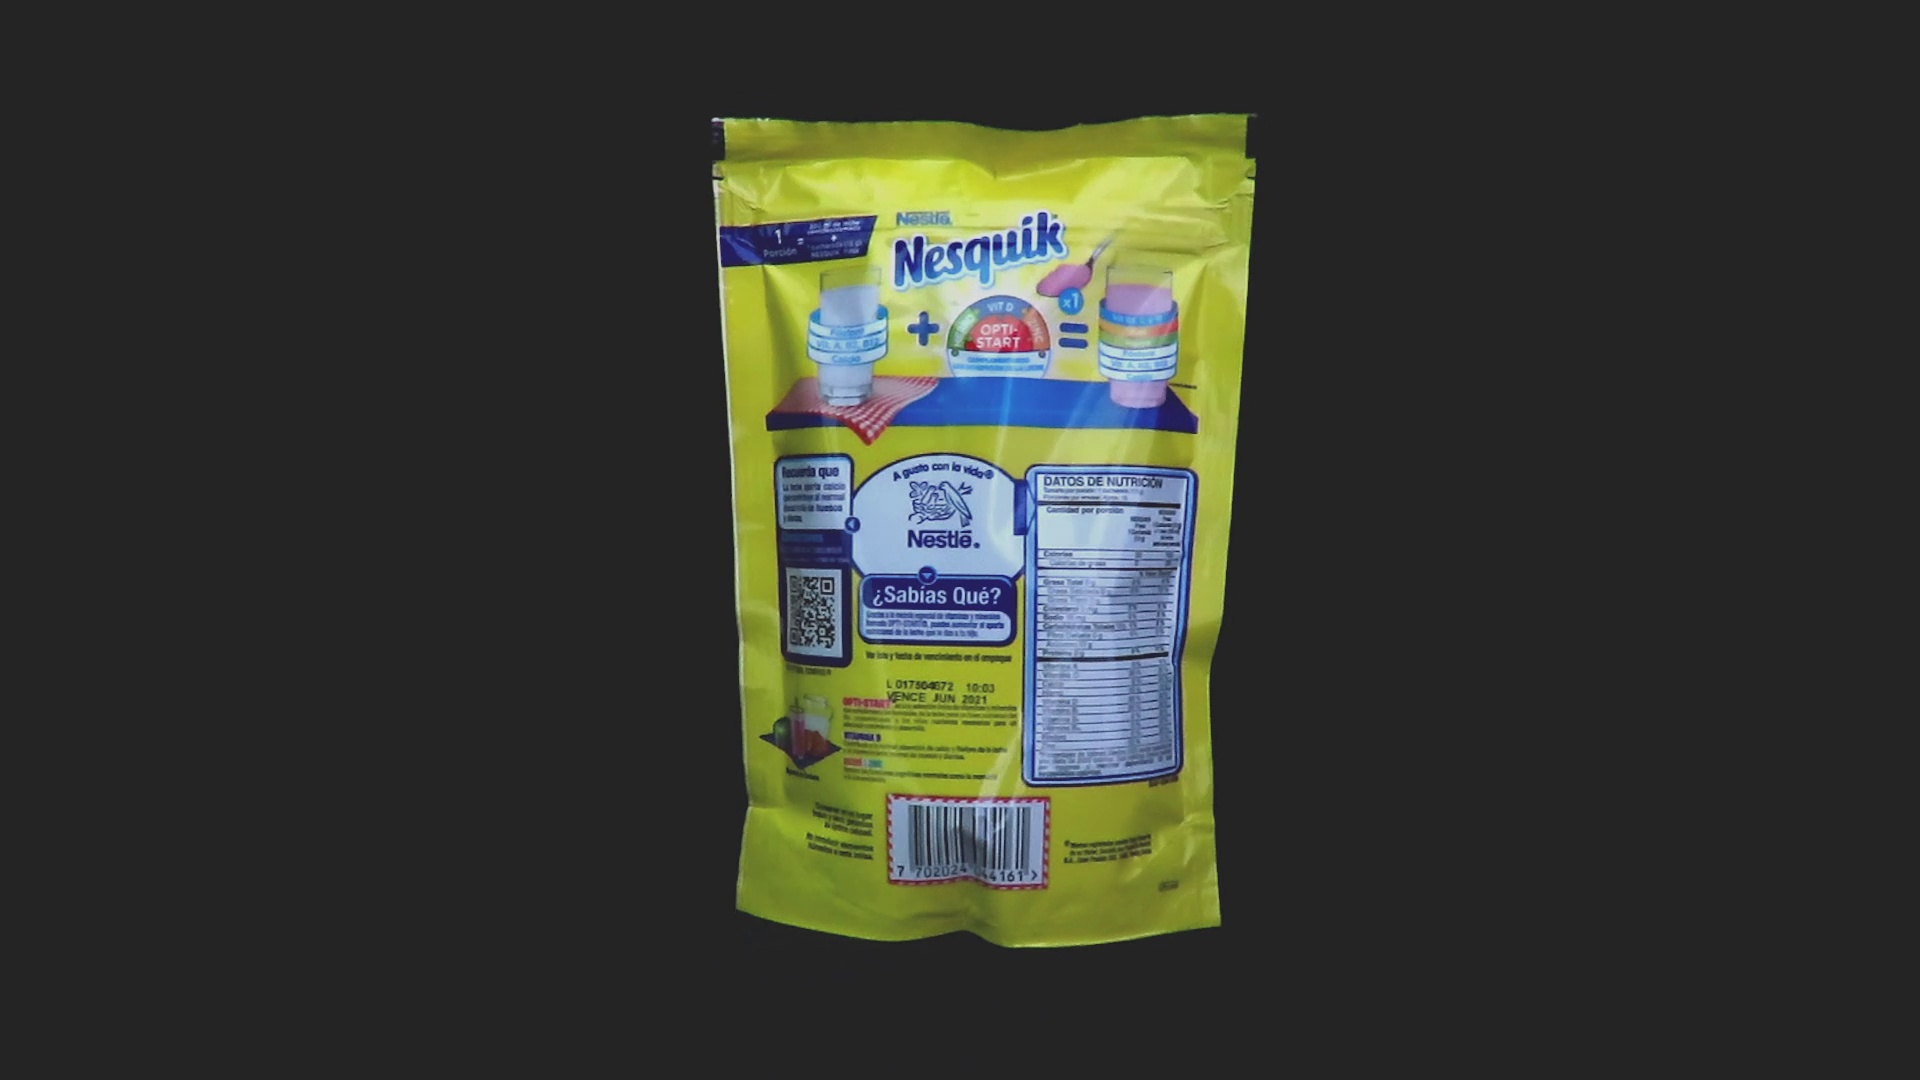COL0170305DYP20000: (705, 107, 1265, 953)
